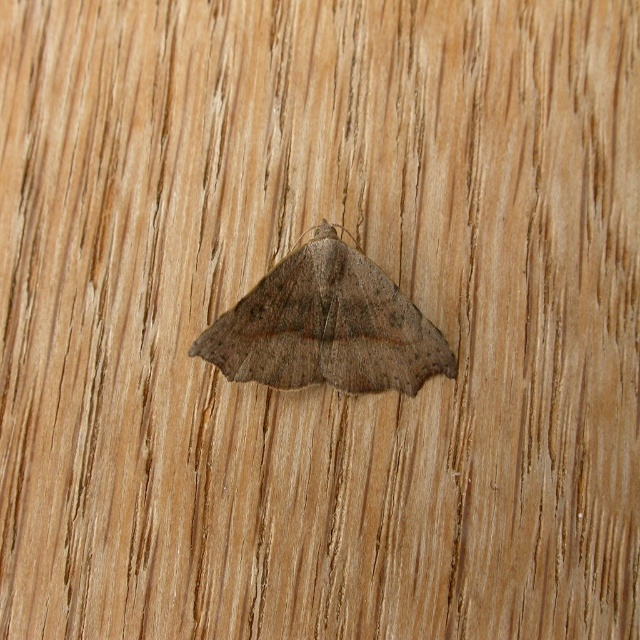Moths and butterflies: (188, 215, 458, 406)
